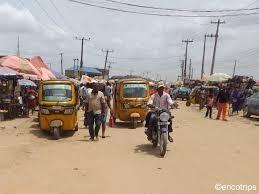keke: (36, 78, 80, 140)
